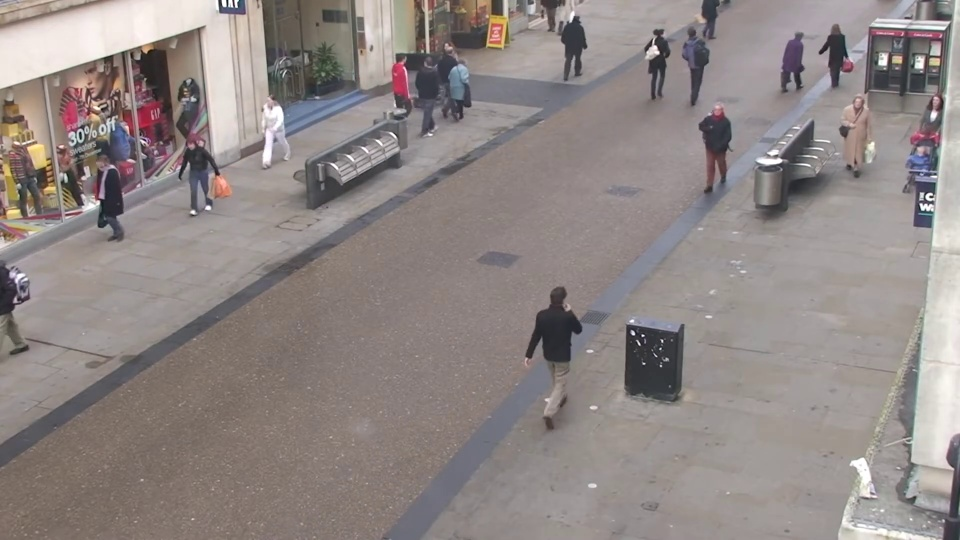pedestrian: (547, 269, 590, 405), (891, 144, 939, 250), (78, 155, 125, 258), (906, 93, 952, 187), (169, 137, 210, 236), (836, 93, 875, 184), (250, 90, 283, 177), (697, 99, 728, 190), (817, 20, 848, 93), (421, 53, 449, 131), (393, 49, 421, 126), (787, 25, 816, 99), (453, 51, 480, 128), (430, 39, 457, 113), (443, 42, 469, 117), (650, 25, 675, 96), (681, 21, 706, 91), (568, 7, 591, 72)
